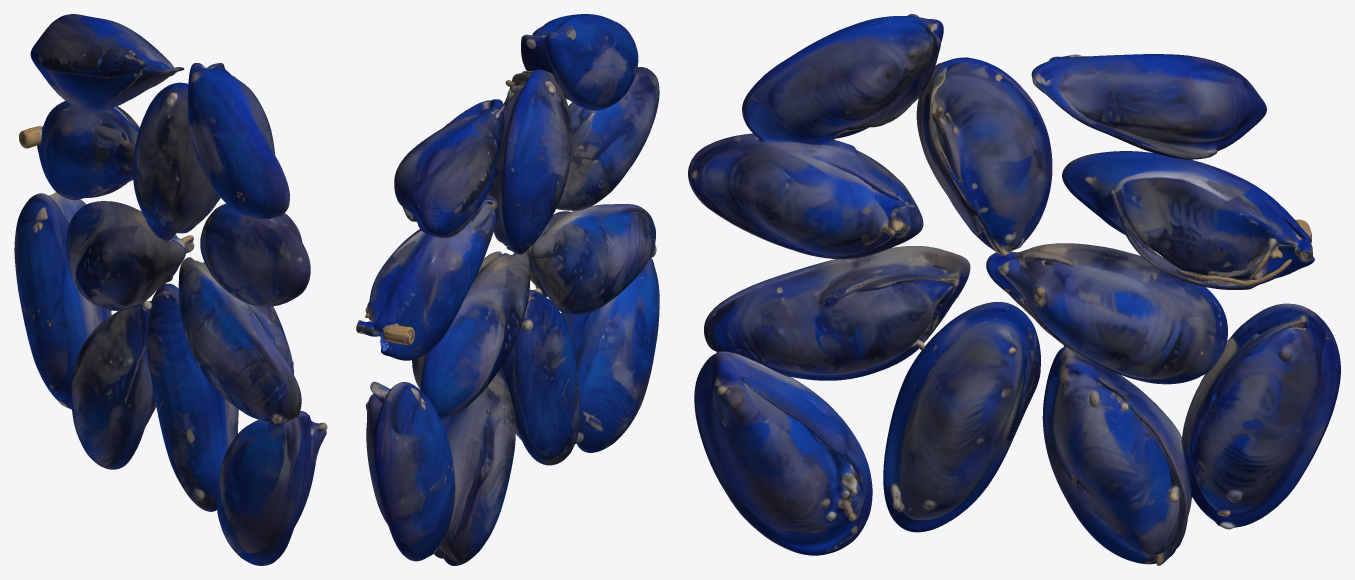
The model's file is mussel_bed_e.glb.
3 renders of one model, left to right at view 1: azimuth 30°, elevation 25°; view 2: azimuth 150°, elevation 25°; view 3: azimuth 270°, elevation 25°, orthographic. The views are drawn at different scales.
Visible parts, largest first — view 1: tripo_node_c5ae0b98-082d-4e40-8fba-6c9220249d6e; view 2: tripo_node_c5ae0b98-082d-4e40-8fba-6c9220249d6e; view 3: tripo_node_c5ae0b98-082d-4e40-8fba-6c9220249d6e.
Part boxes in pixels (x1,y1,x2,y2): tripo_node_c5ae0b98-082d-4e40-8fba-6c9220249d6e: (14,14,327,565); tripo_node_c5ae0b98-082d-4e40-8fba-6c9220249d6e: (356,14,659,565); tripo_node_c5ae0b98-082d-4e40-8fba-6c9220249d6e: (688,14,1340,565).
Bounding box in the file's own units: 0.181 × 0.9214 × 1.
Materials: 1 (1 with a texture image).
